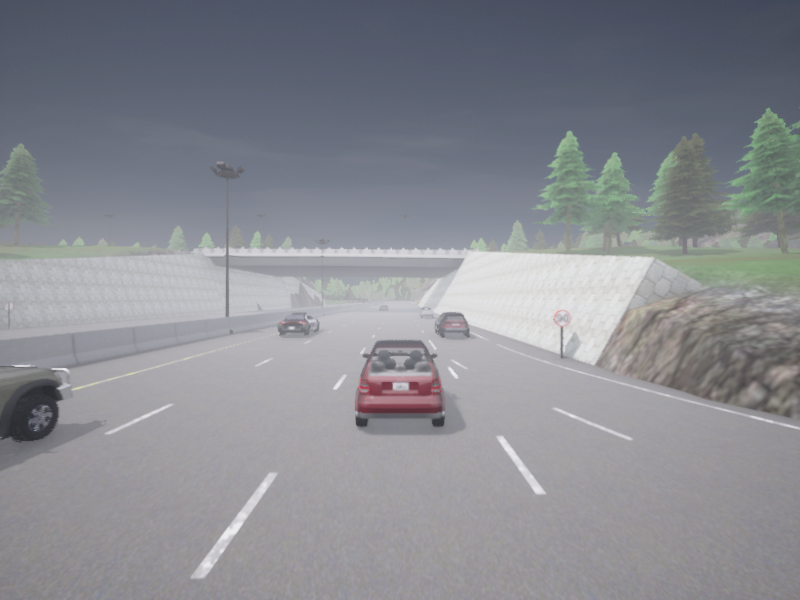vehicle: (355, 339, 445, 426), (0, 365, 71, 441), (278, 312, 319, 335), (435, 312, 469, 336), (419, 307, 432, 317), (379, 305, 388, 310)
